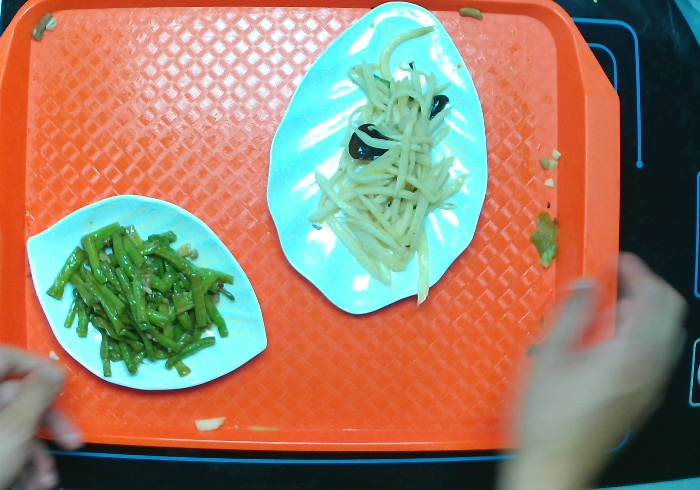RJxy-Bai_Ye_Pan: (261, 1, 491, 317)
RJxy-Da_Du_Pan: (16, 189, 271, 398)
